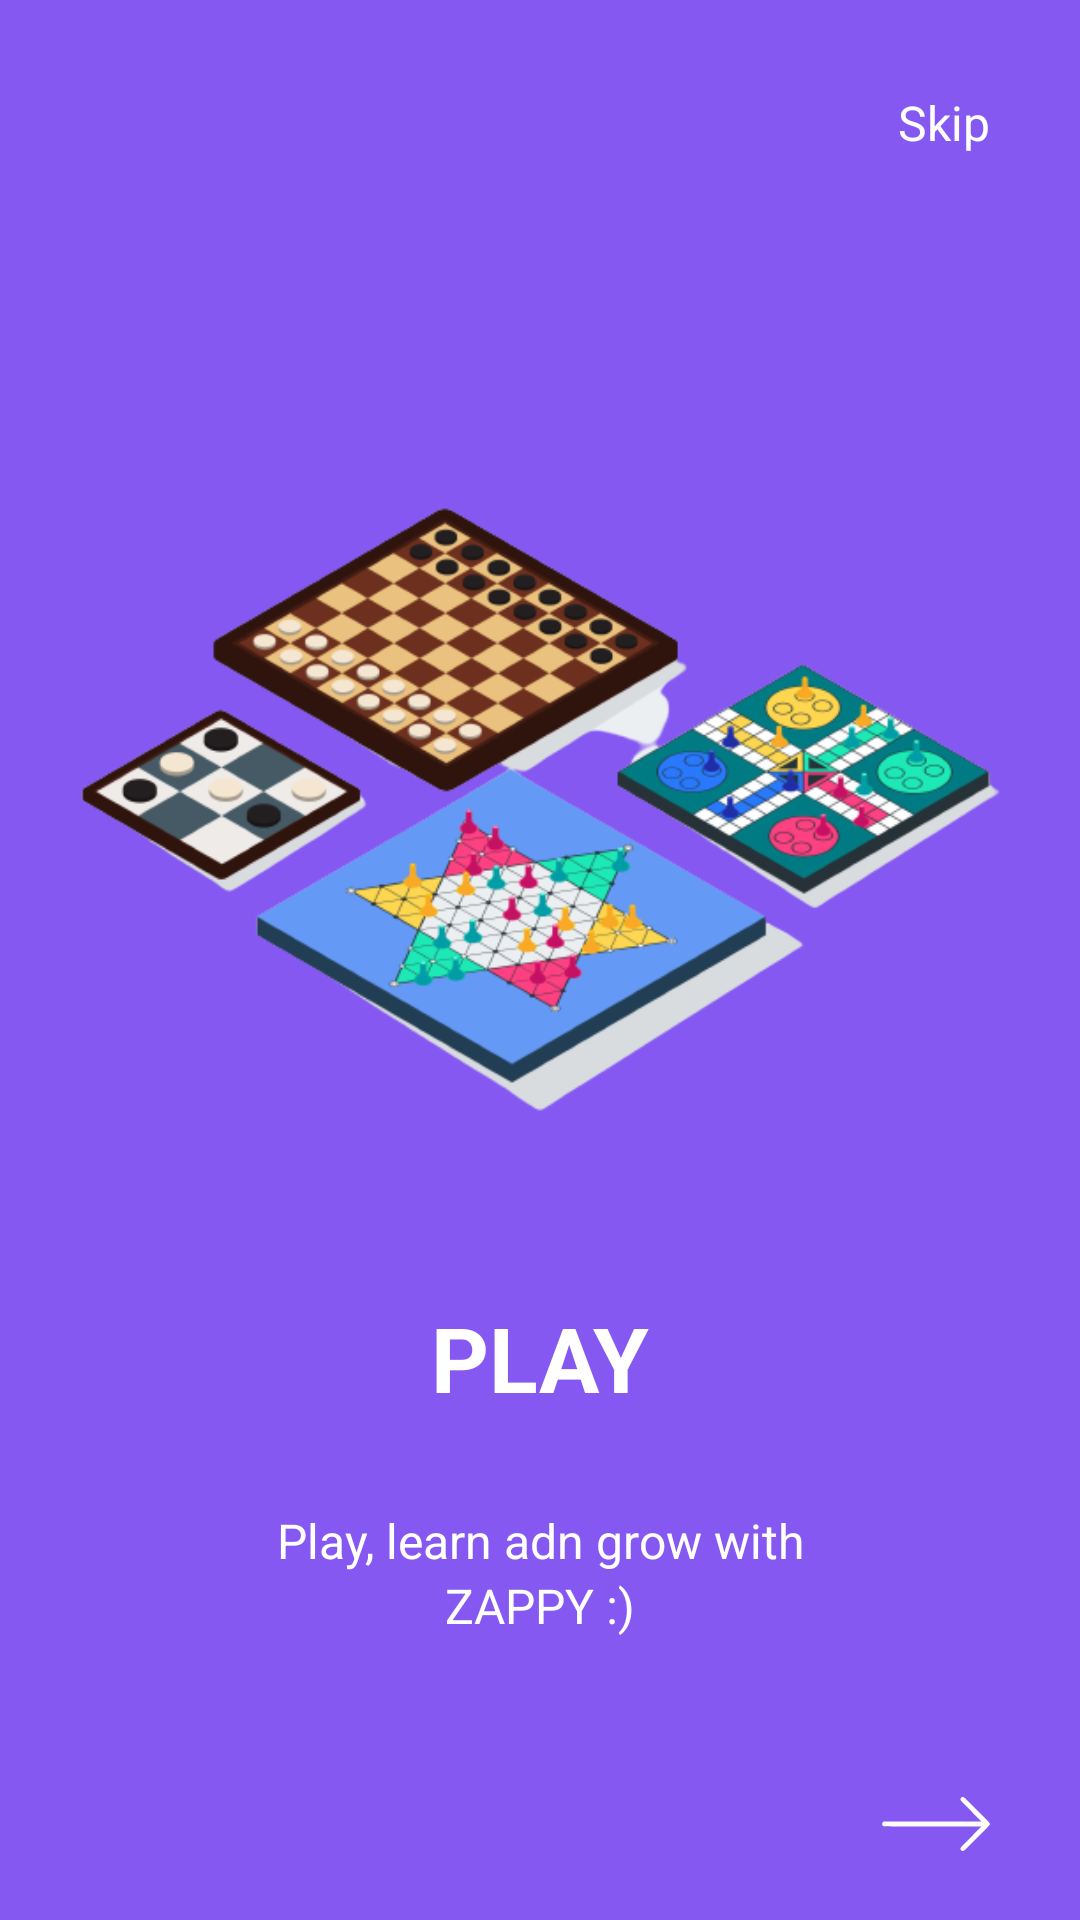

Where icons sit on this 1080px×1920px app screen, as (x1, y1, x2, y2):
right arrow: (882, 1797, 990, 1851)
